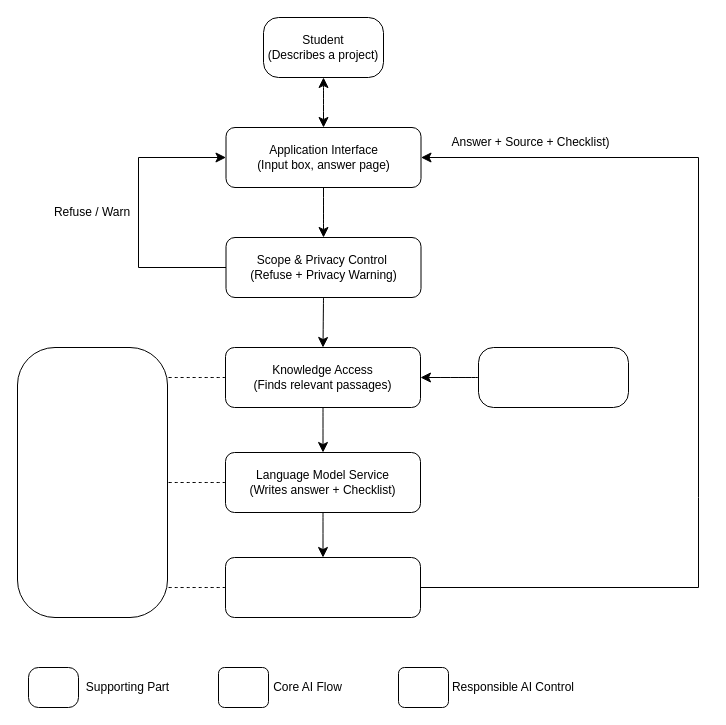
Image size: 726x725. Some labels were removed from this diagram. The centre of each missing label's shape, as x and y in pixels:
"Evaluation Point (Test Question Set) (Plain LLM Baseline) (Latency + Scores)" belongs at pixel 92 482.
"Knowledge Source (Approved guideline docs)" belongs at pixel 553 377.
"Output Check (Check Sources + Notice)" belongs at pixel 322 587.
